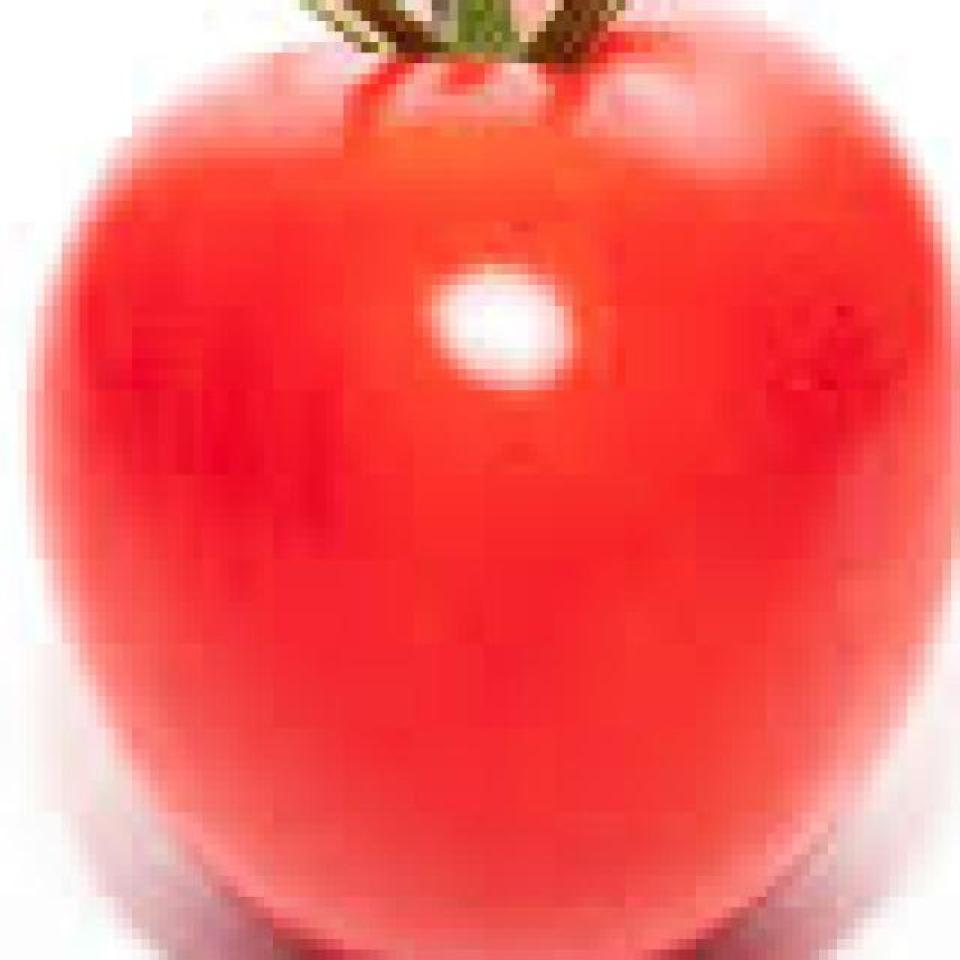Healthy: (55, 7, 958, 960)
